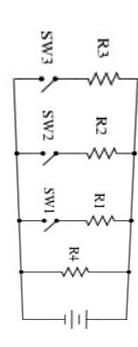Battery: (42, 305, 100, 336)
